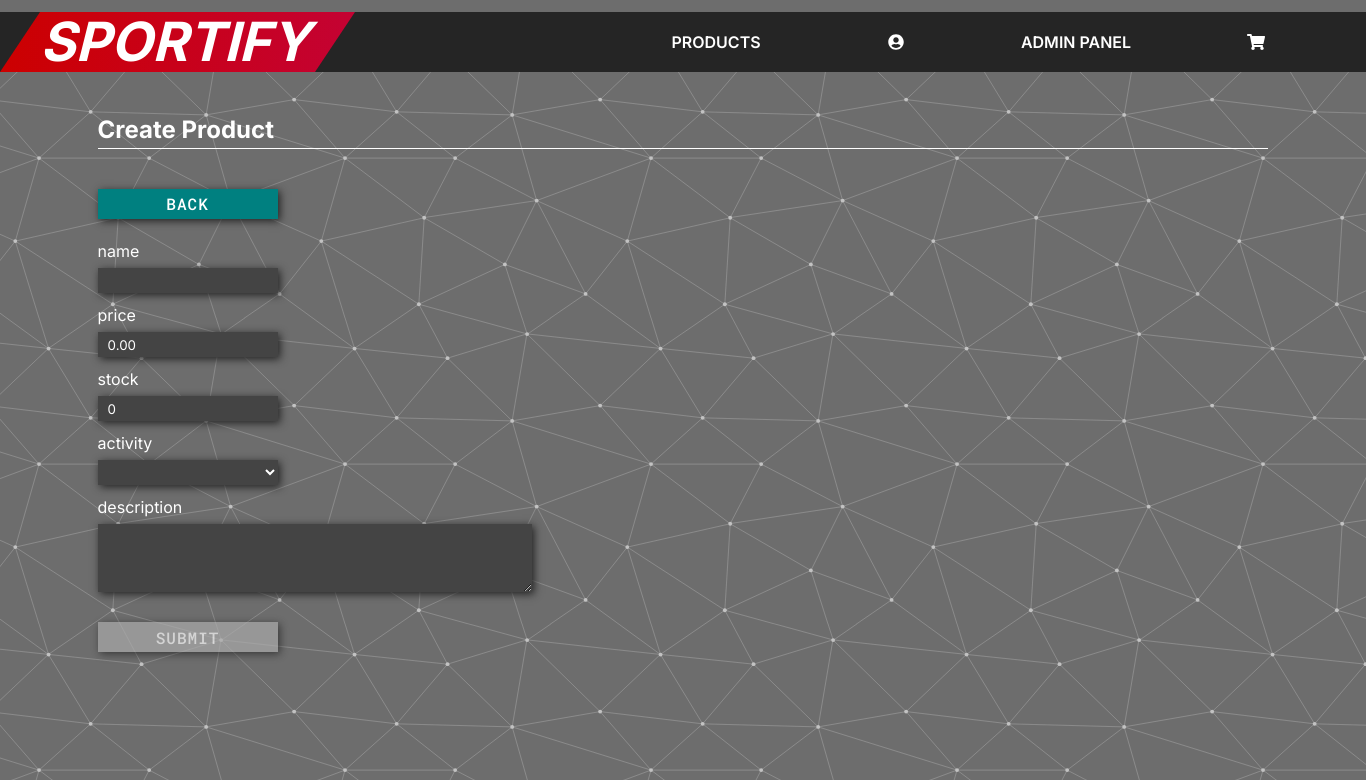
Test case: create product form › price is auto-formatted
Replace the text in the number field labelled "price" with "1.999" at (188, 344), box 98,332 -> 278,357
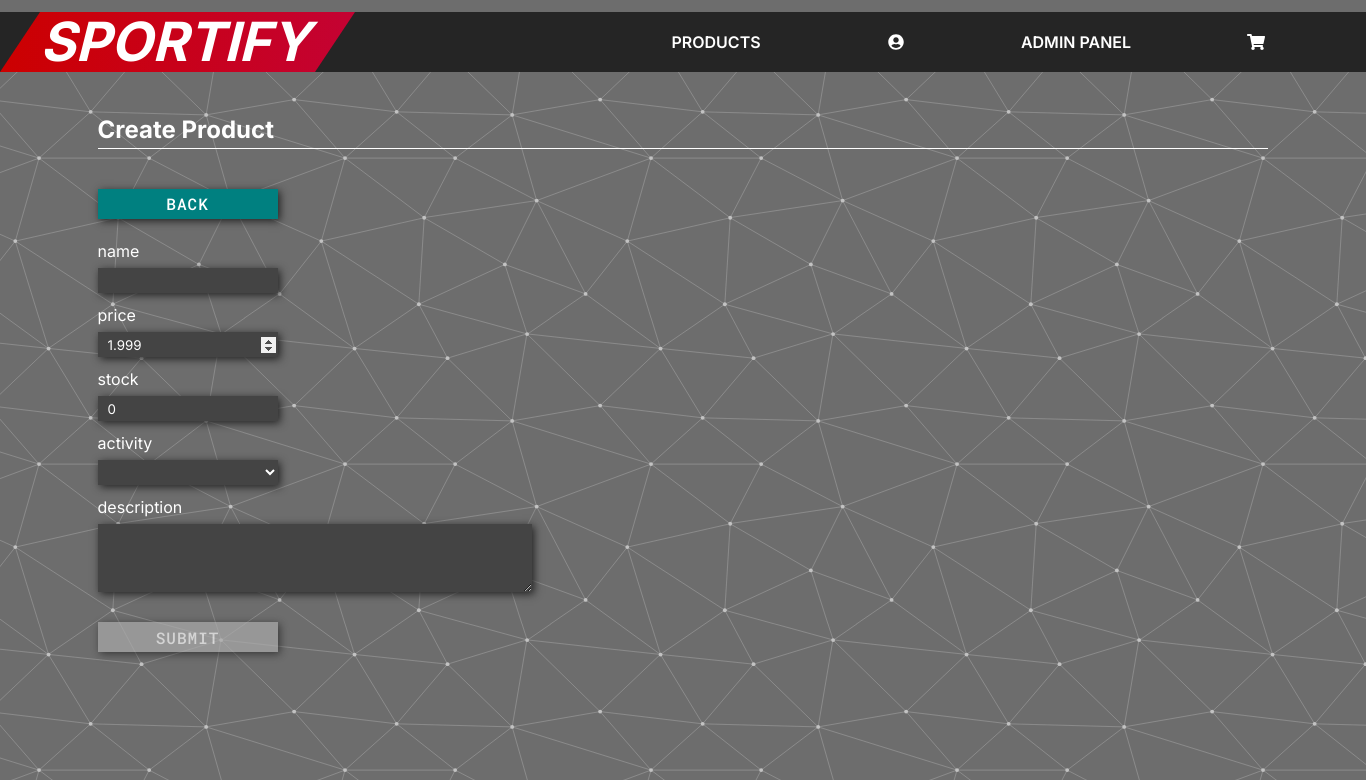
Press Tab
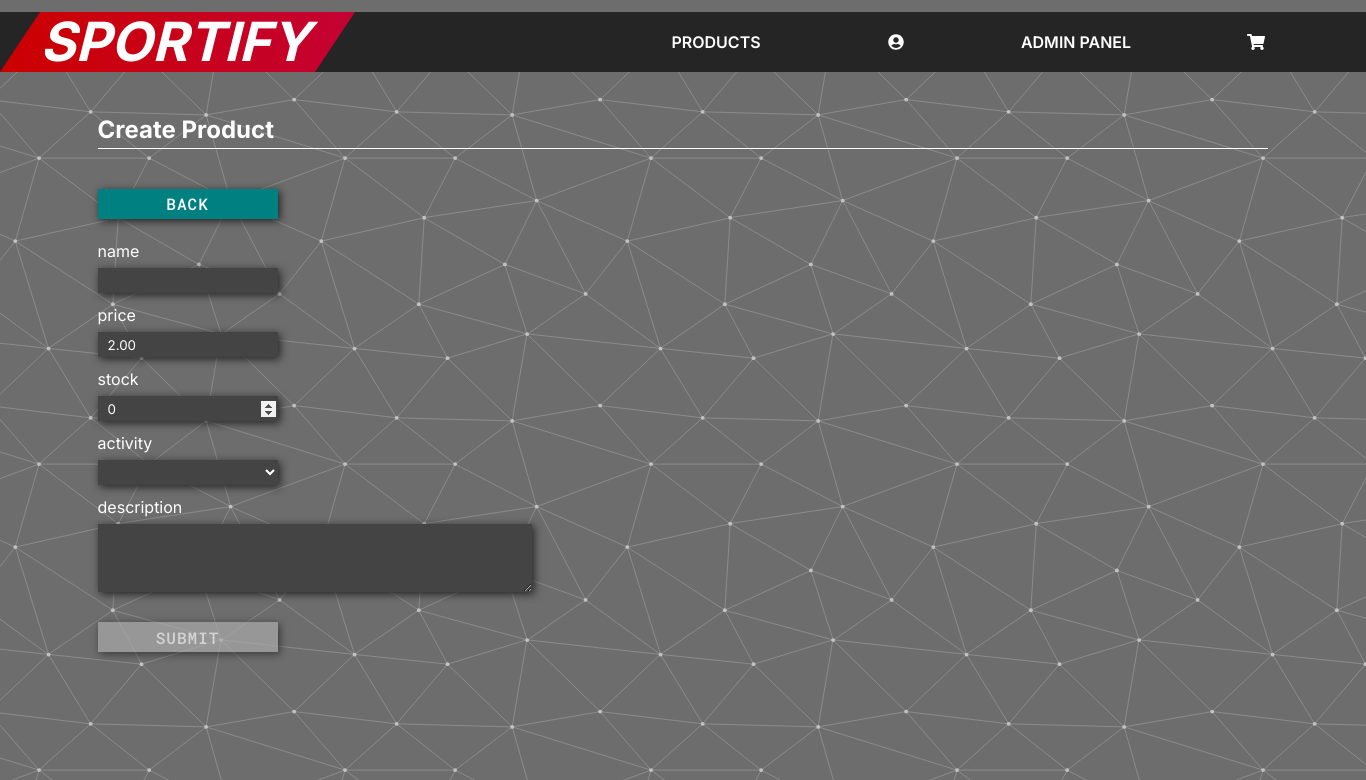
Now the number field labelled "price" holds "2.00", box 98,332 -> 278,357
